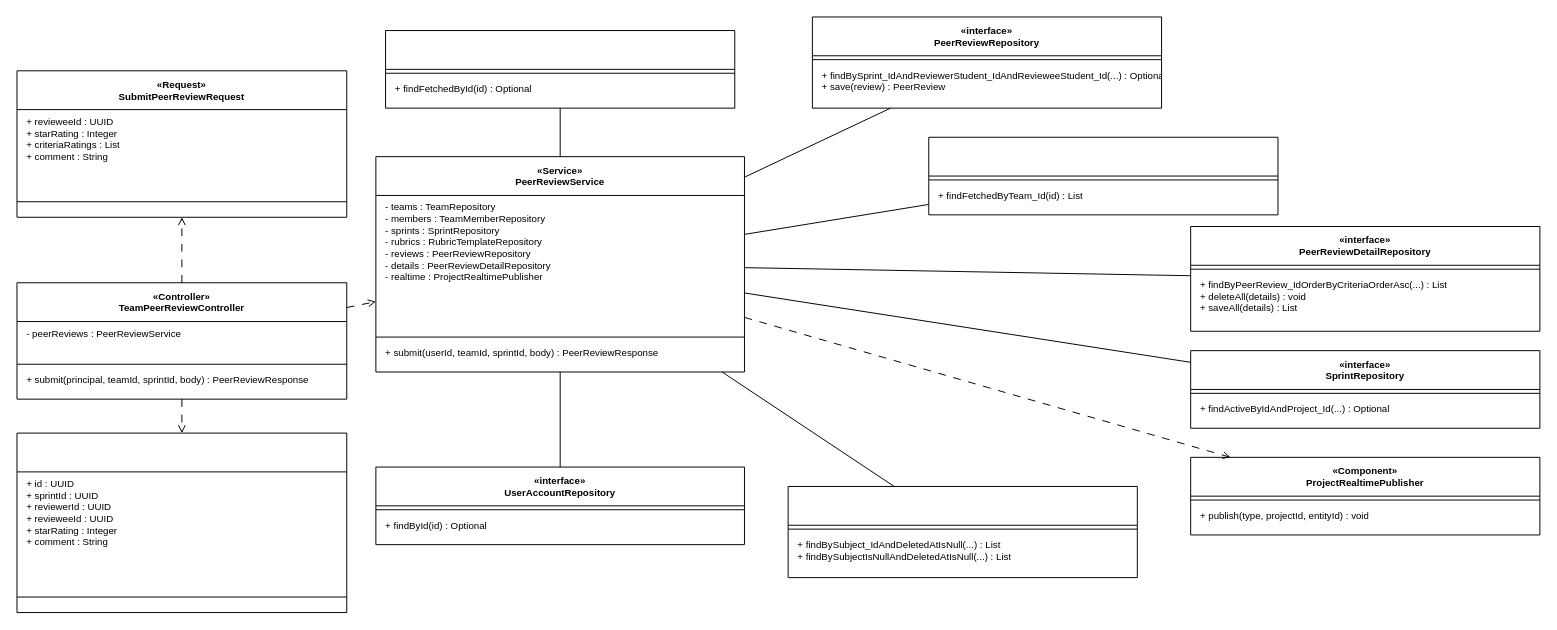
The diagram is 1557 pixels wide and 630 high, and some of its shapes have lost their labels. The shapes that lost their labels are listed below. From the top down, each one's box as (x1, y1, x2, y2) in pixels, then its label:
(385, 30, 735, 108): «interface» TeamRepository
(928, 136, 1278, 215): «interface» TeamMemberRepository
(16, 432, 347, 613): «Response» PeerReviewResponse
(787, 485, 1137, 578): «interface» RubricTemplateRepository
